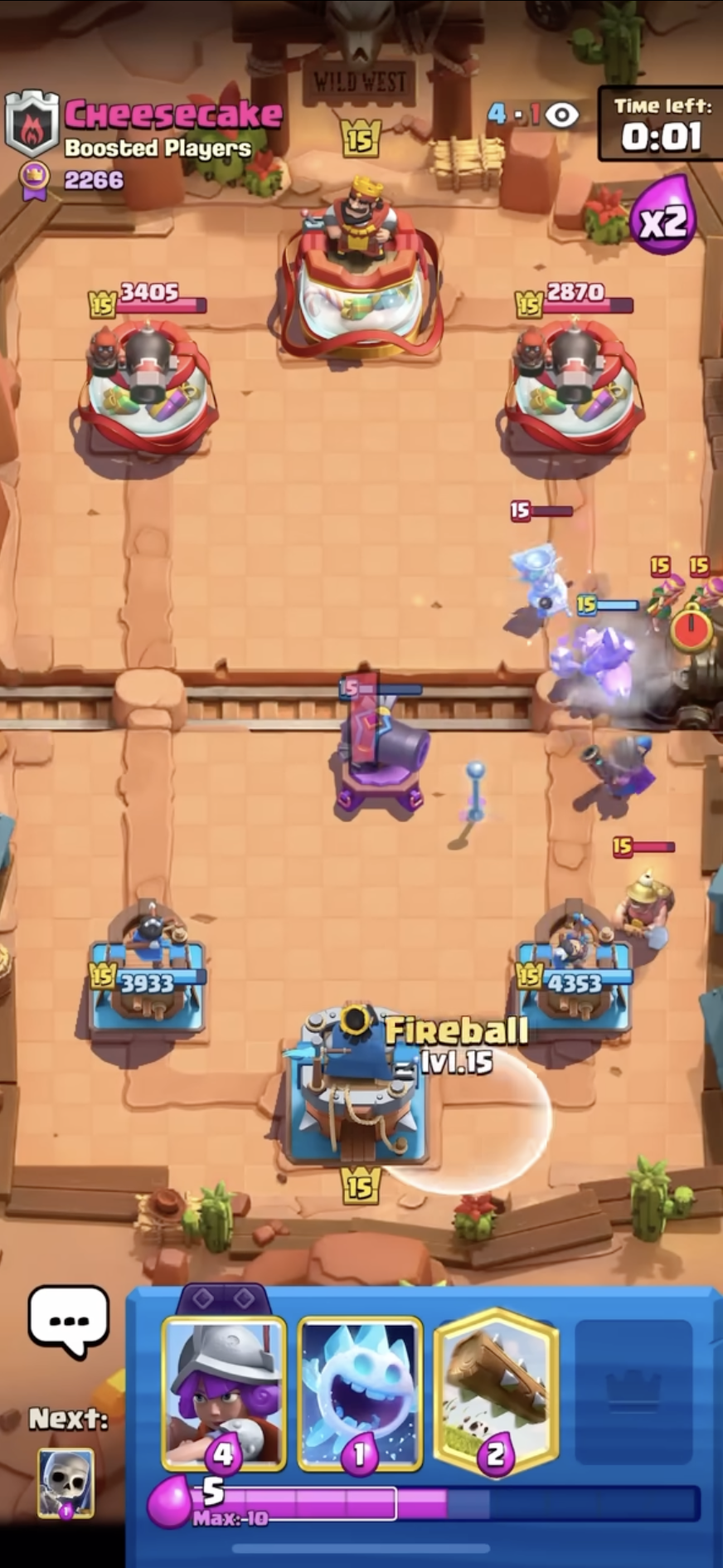evo-cannon: (312, 658, 448, 837)
evo-musketeer: (583, 713, 670, 815)
hog-rider: (550, 578, 655, 724)
